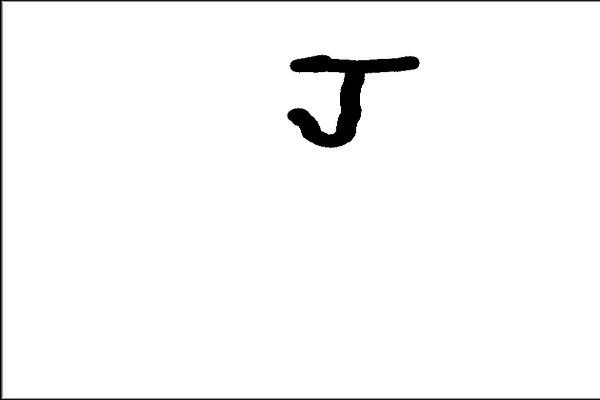J: (277, 47, 424, 150)
